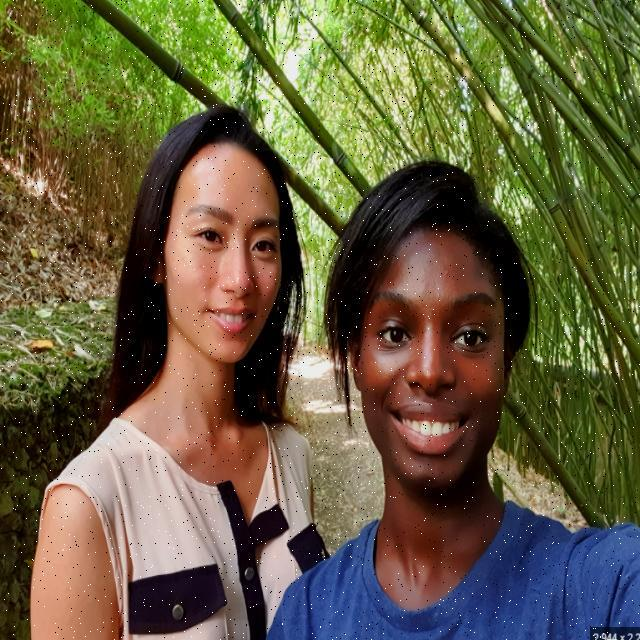face_no_mask: (349, 222, 525, 496), (146, 143, 286, 367)
